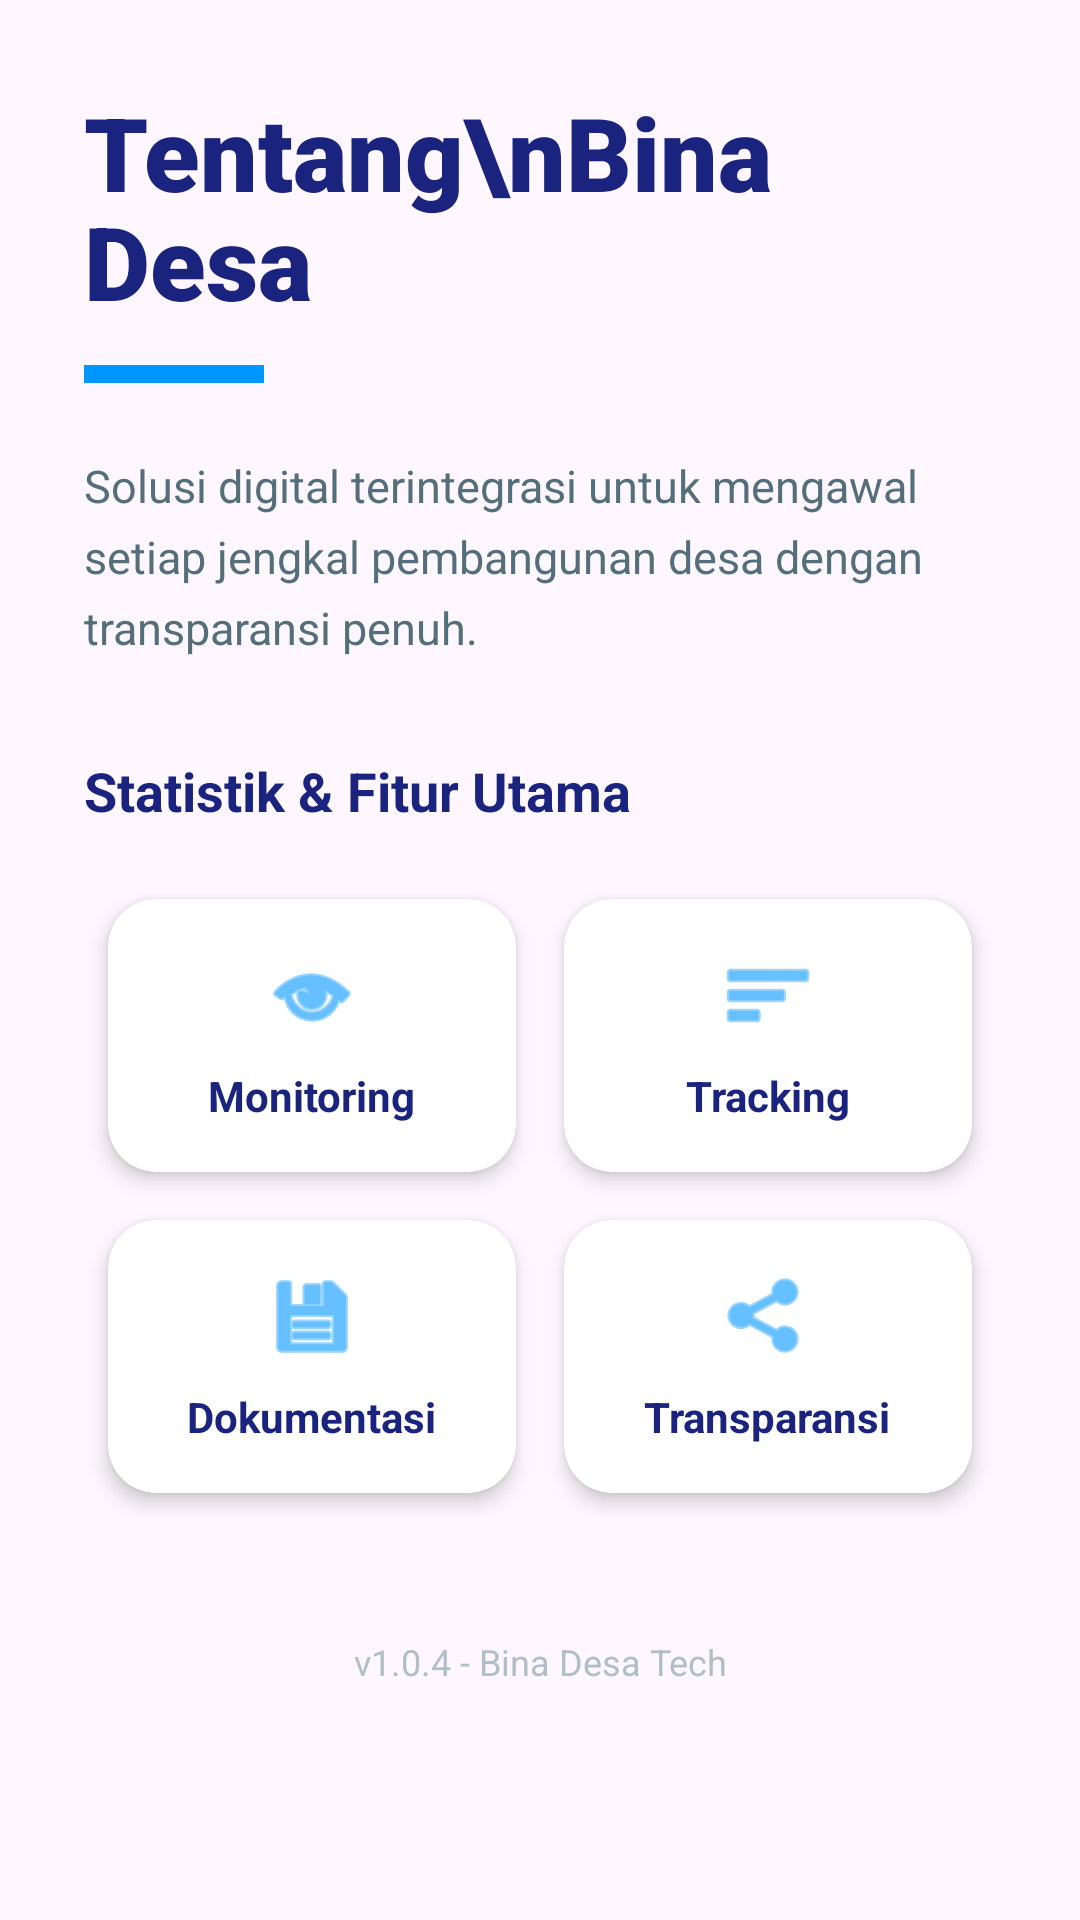

Icon bounding boxes for this 1080 × 1920 phone screenshot, format box(x1, y1, x2, y2):
save: box(276, 1280, 348, 1353)
share: box(727, 1278, 799, 1353)
sort by size: box(727, 969, 809, 1022)
view: box(273, 973, 351, 1022)
